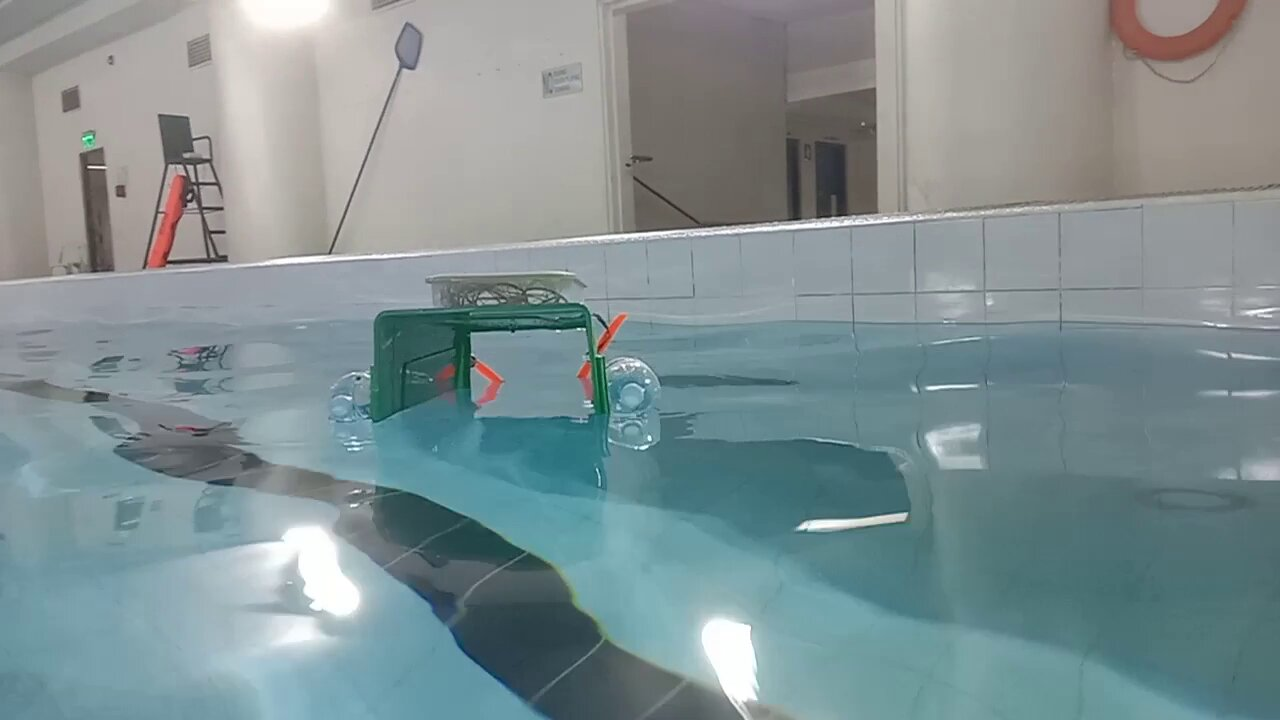drone: (325, 269, 665, 437)
